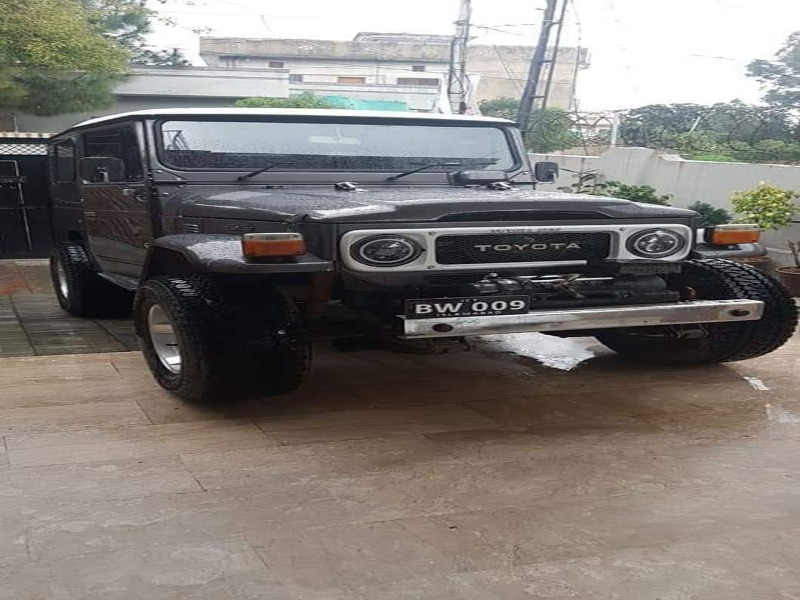License Plate: (403, 294, 532, 322)
